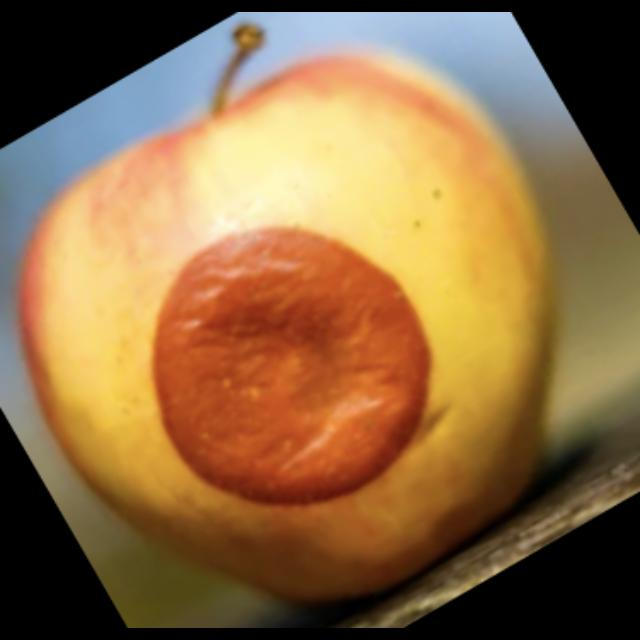Apel Segar: (10, 56, 555, 553)
Apel Tidak Segar: (151, 217, 465, 508)
